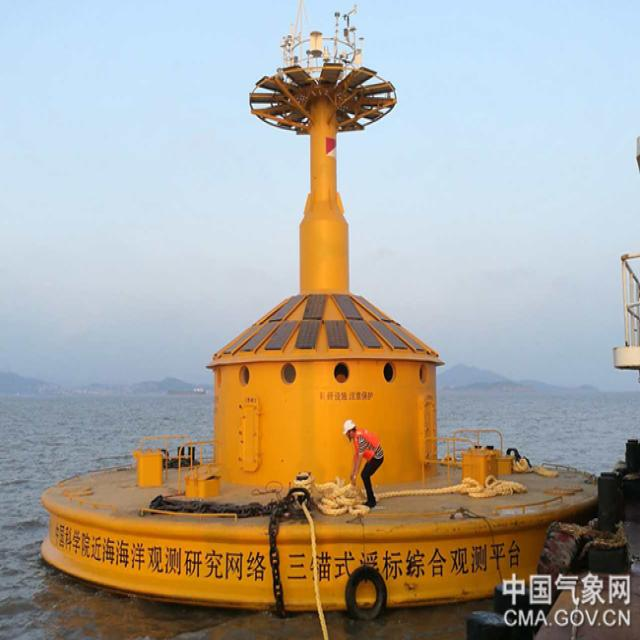buoy: (46, 31, 589, 602)
